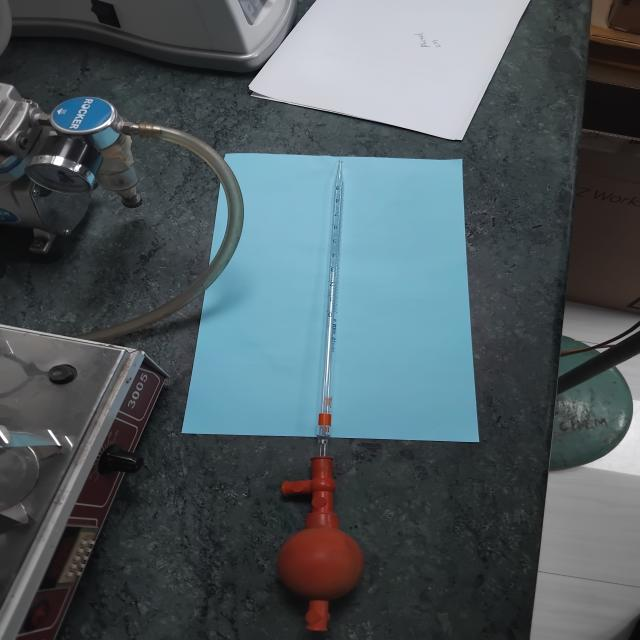Volumetric_Pipet: (242, 142, 414, 640)
